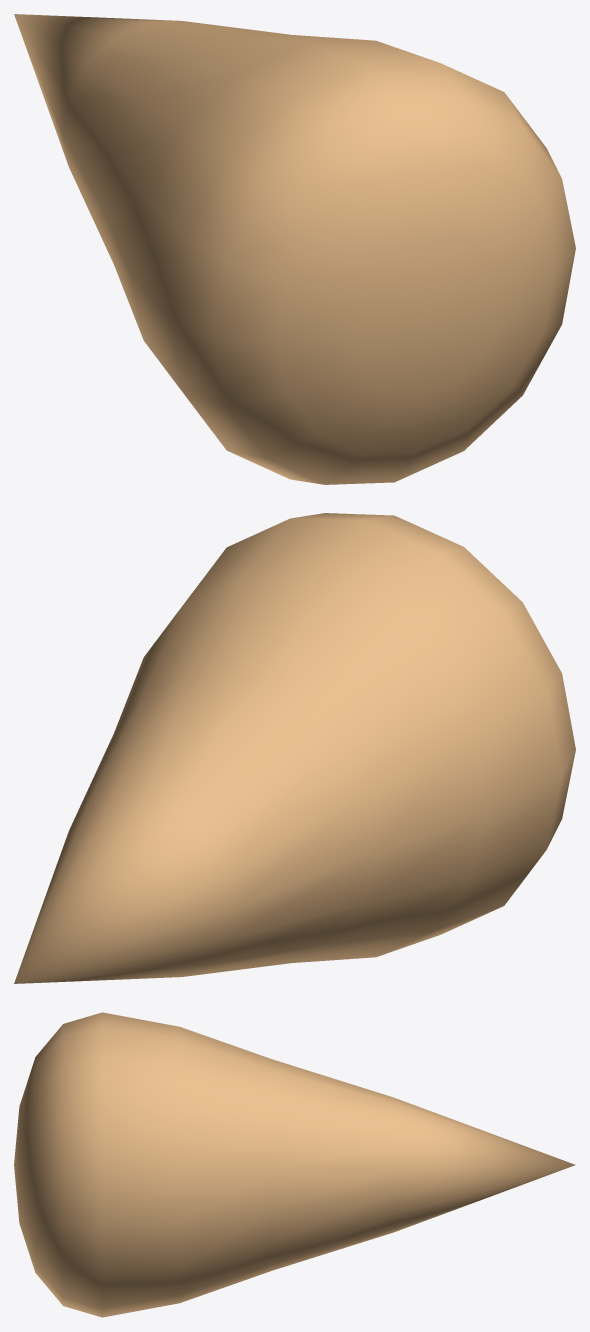
File: Needle02.fbx
3 views of the same model, one above another, from view 1: azimuth 30°, elevation 25°; view 2: azimuth 150°, elevation 25°; view 3: azimuth 270°, elevation 25° (orthographic). The views are drawn at different scales.
Parts seen in each view (by area): view 1: Needle; view 2: Needle; view 3: Needle.
Boxes of the visible parts, left/top/right/bottom form: Needle: left=14, top=14, right=575, bottom=484; Needle: left=14, top=513, right=575, bottom=983; Needle: left=14, top=1012, right=575, bottom=1317.
Size of the model in its own units: 26 by 26 by 47.81.
